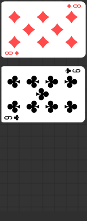9C: (64, 67, 82, 74)
